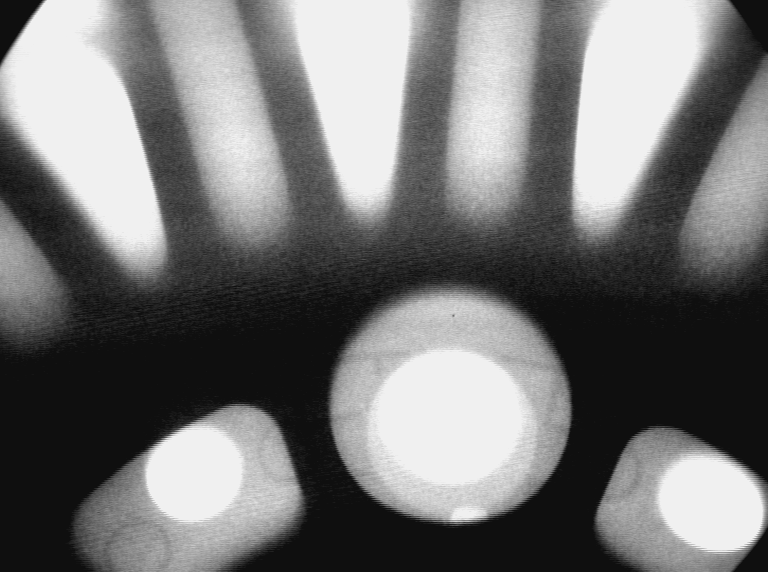defect: (445, 501, 490, 530)
